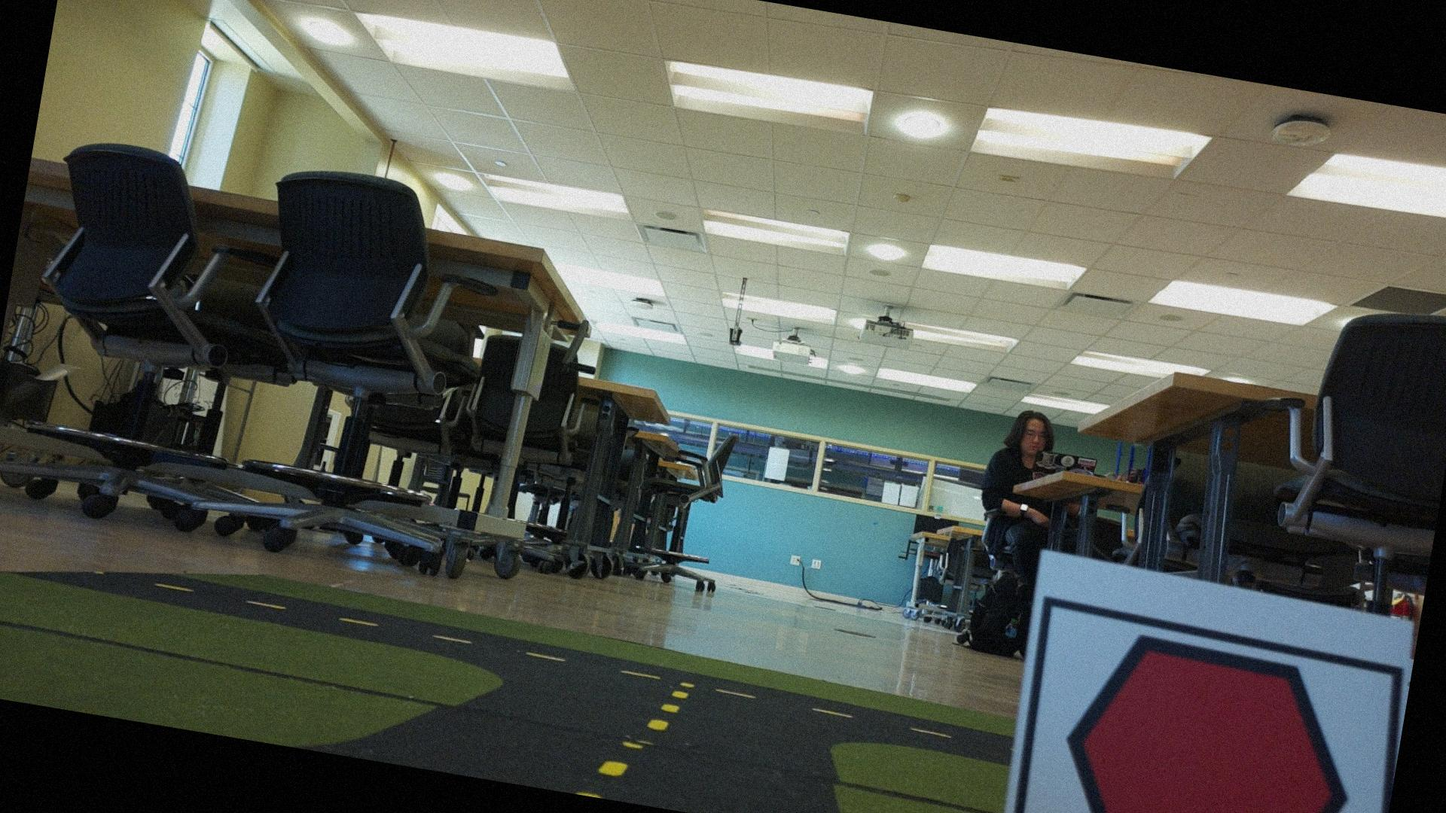stop: (1027, 619, 1387, 812)
yellowline: (599, 679, 687, 784)
